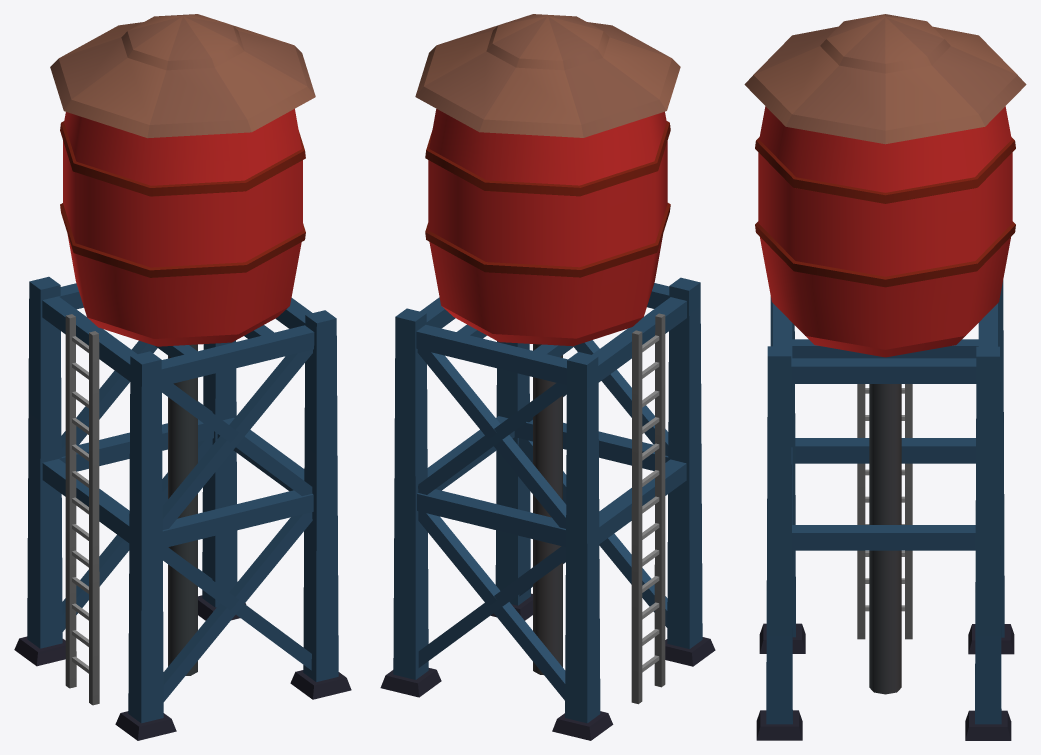
The model's file is WaterTank_2_B.fbx.
3 renders of one model, left to right at view 1: azimuth 30°, elevation 25°; view 2: azimuth 150°, elevation 25°; view 3: azimuth 270°, elevation 25°, orthographic. The views are drawn at different scales.
Parts seen in each view (by area): view 1: WaterTank_2_B; view 2: WaterTank_2_B; view 3: WaterTank_2_B.
Boxes of the visible parts, <box> form: WaterTank_2_B: <box>14,14,351,740</box>; WaterTank_2_B: <box>380,14,715,740</box>; WaterTank_2_B: <box>744,14,1026,740</box>.
Size of the model in its own units: 119 by 312 by 119.
